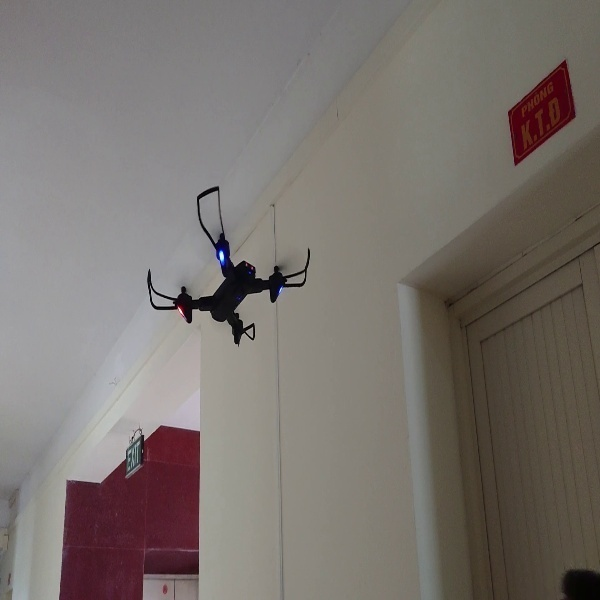drone: (144, 185, 311, 346)
